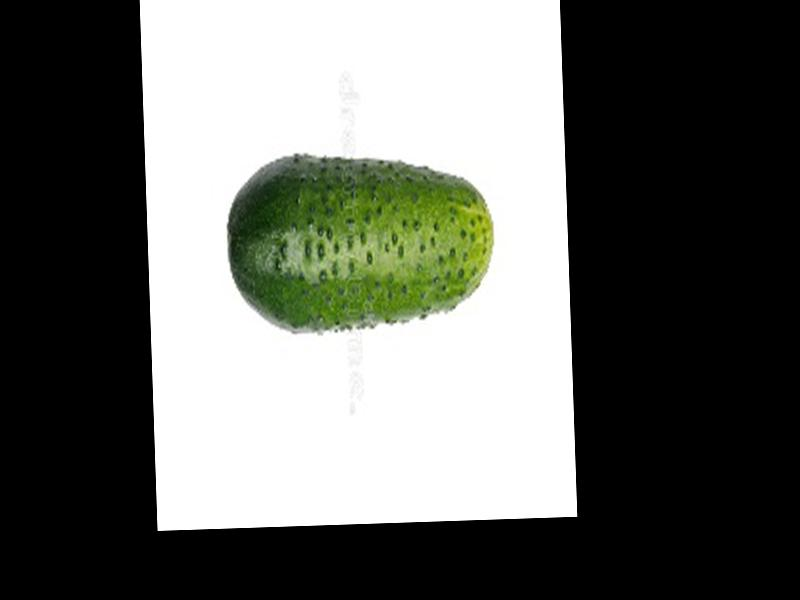Cucumber: (224, 147, 498, 338)
